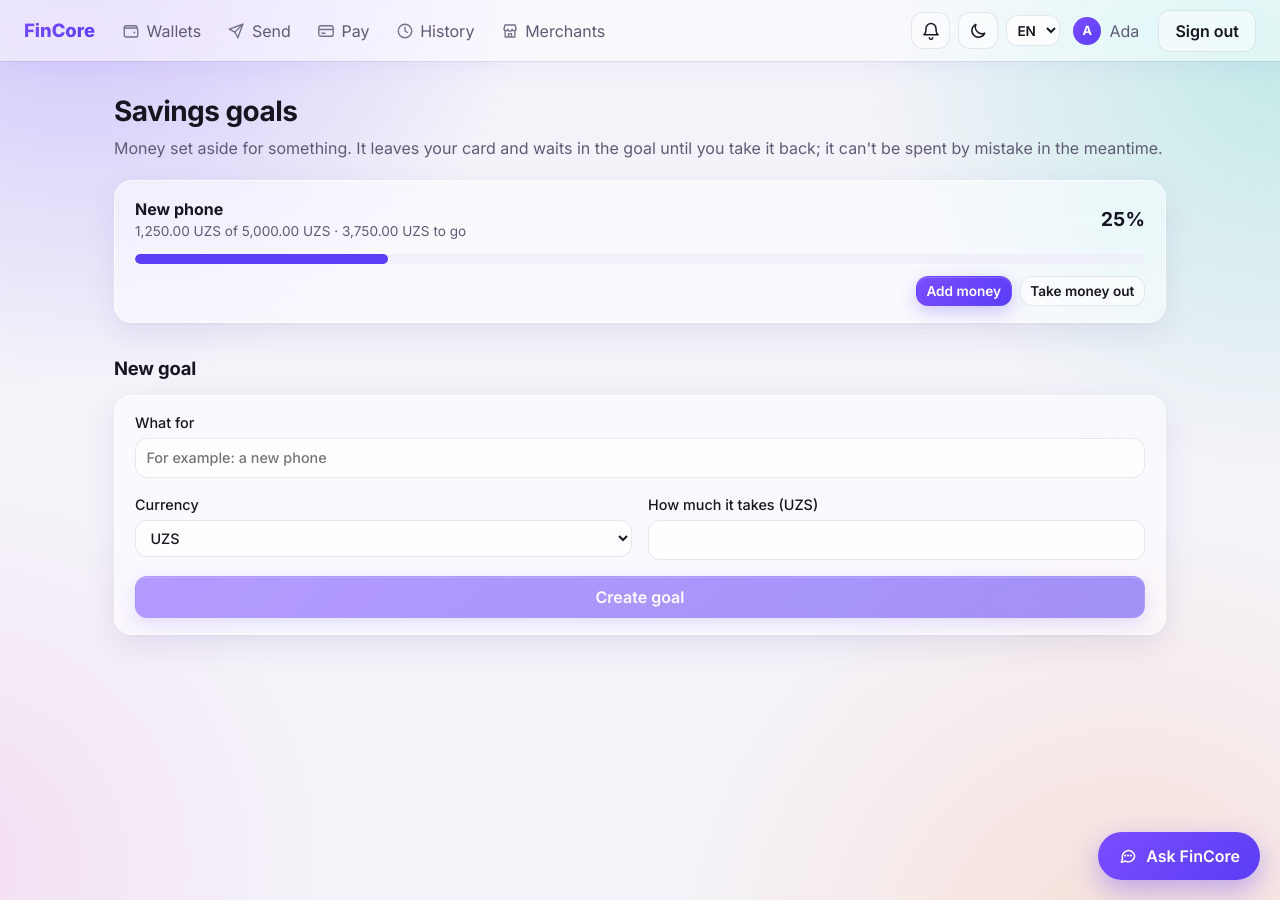
Scenario: savings goals › won't ask for more than the goal holds
Click the button "Take money out": [1082, 291] box [1020,276,1145,306]
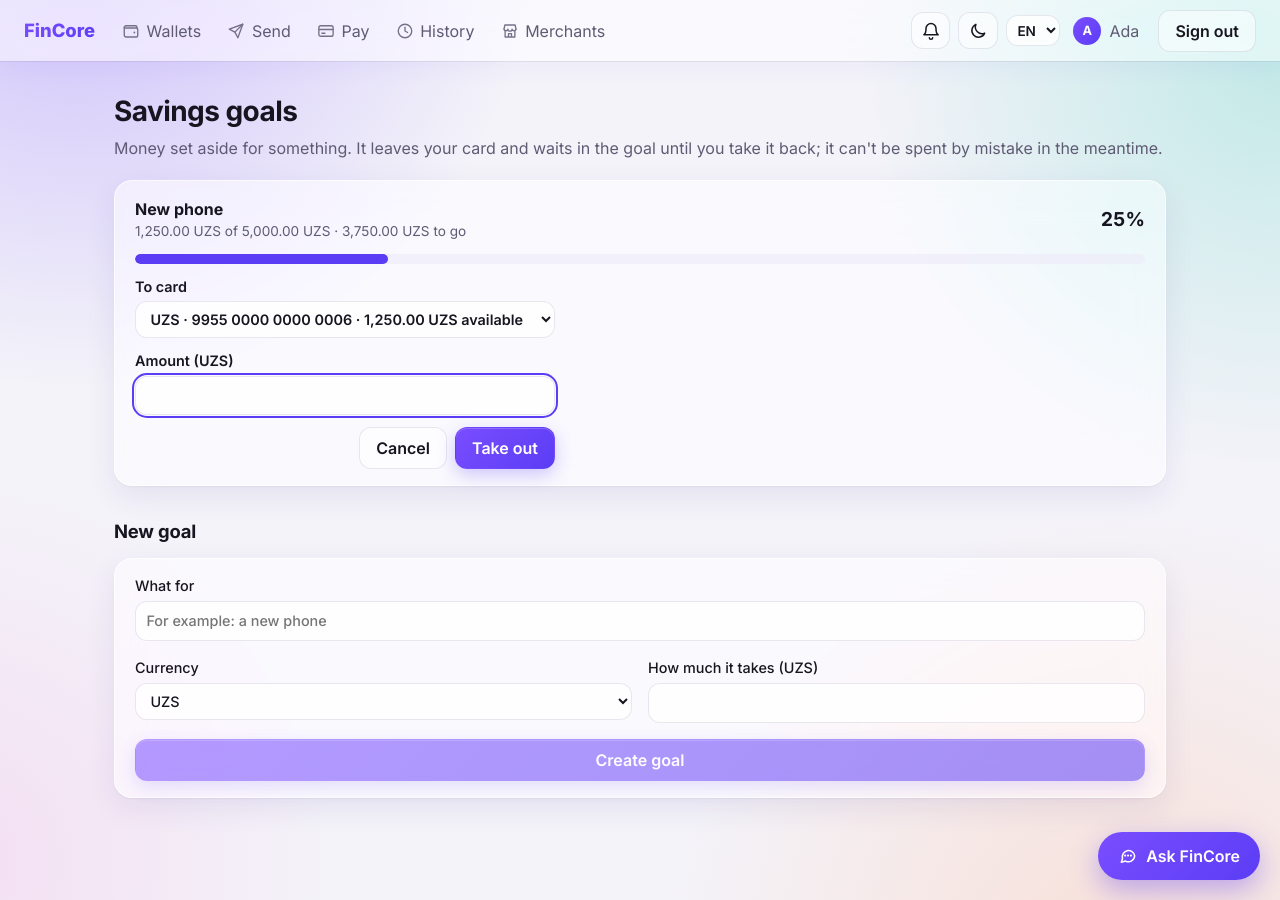
In the field labelled "Amount (UZS)": [345, 396] box [135,376,555,415], type "1250.01"
Click the button "Take out": [505, 448] box [455,427,555,469]
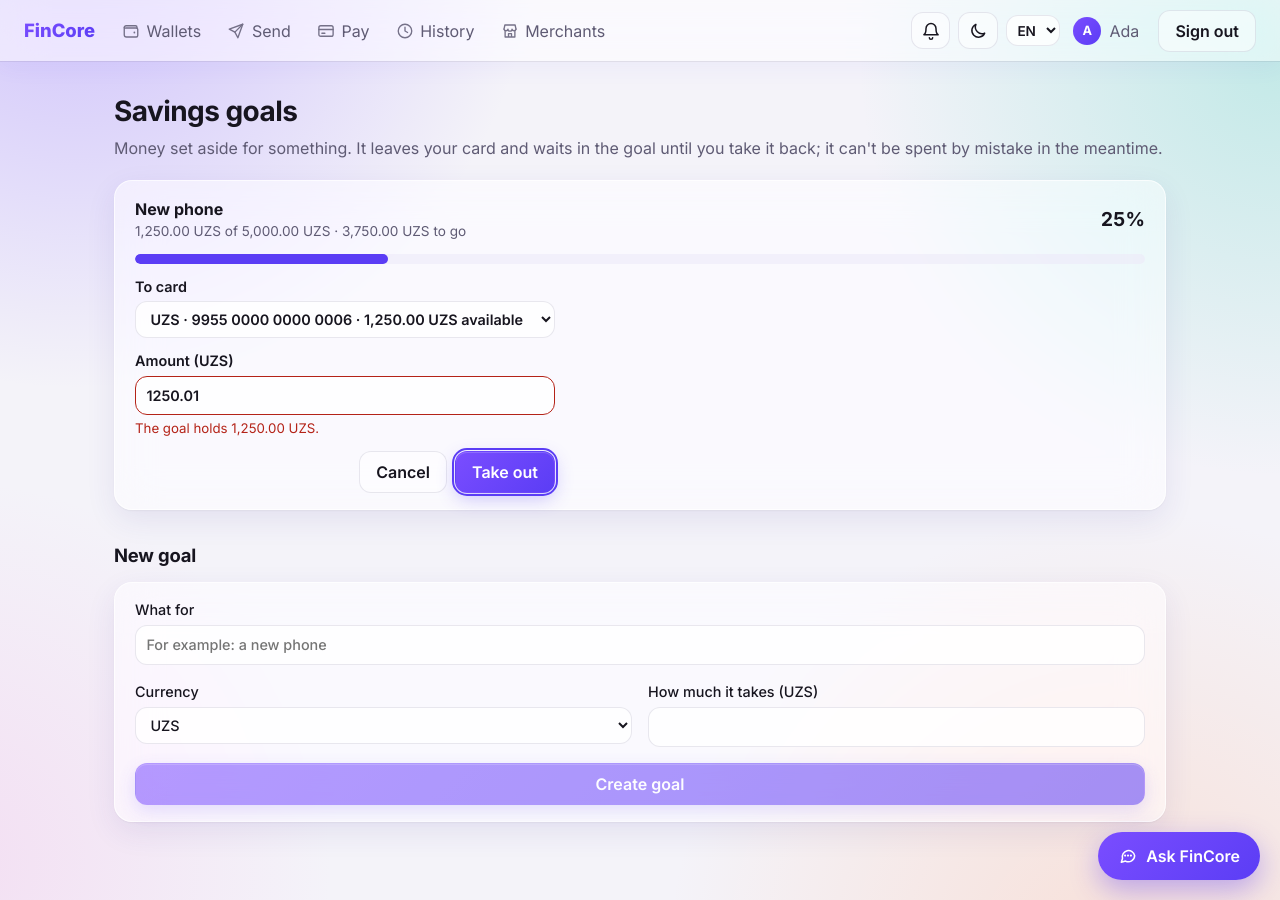
Check: the text "The goal holds 1,250.00 UZS." is shown, box [135,420,319,436]
(The field's label now carries the error too.)
Replace the text in the field labelled "Amount (UZS) The goal holds 1,250.00 UZS." with "1250": [345, 396] box [135,376,555,415]
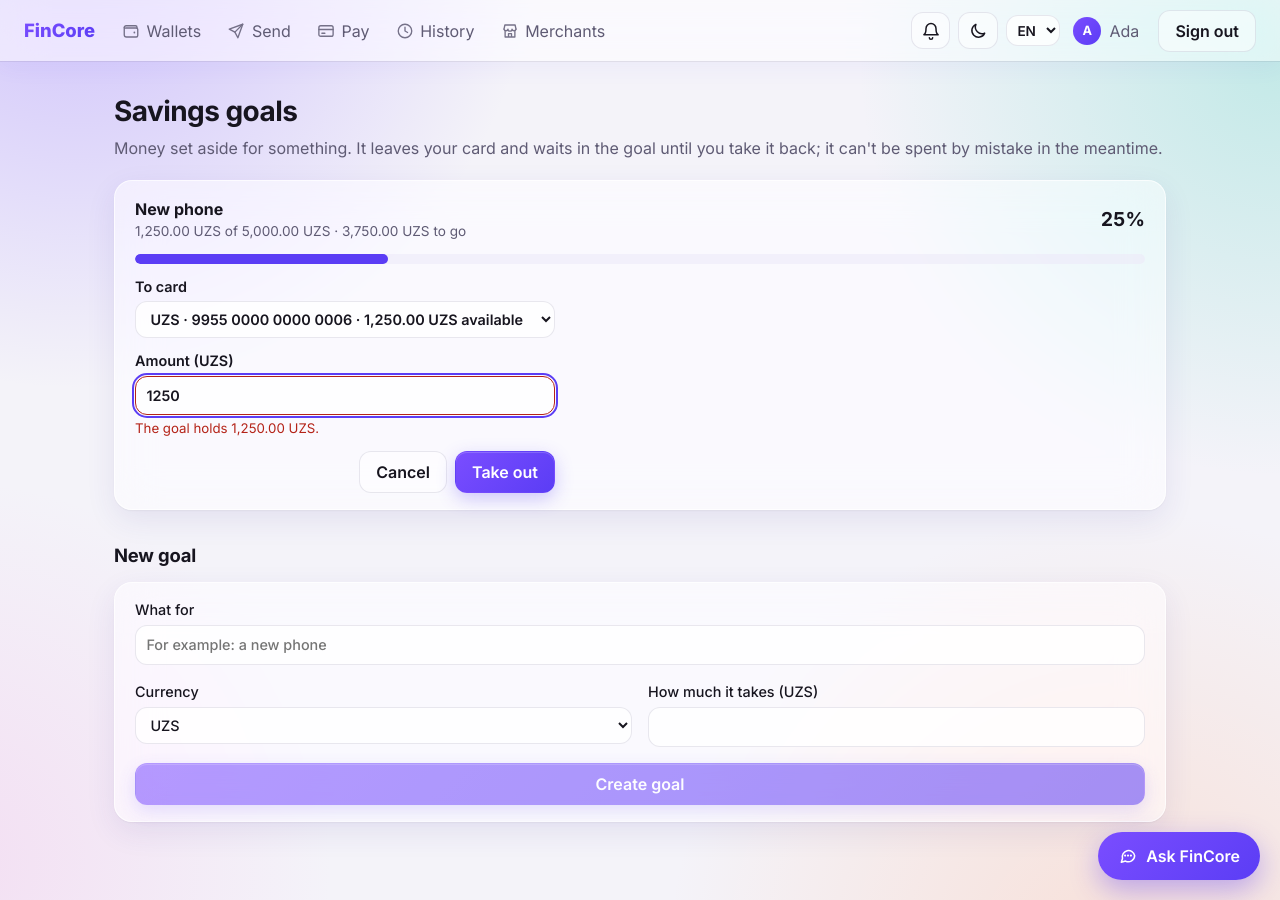
Click the button "Take out": [505, 472] box [455,451,555,493]
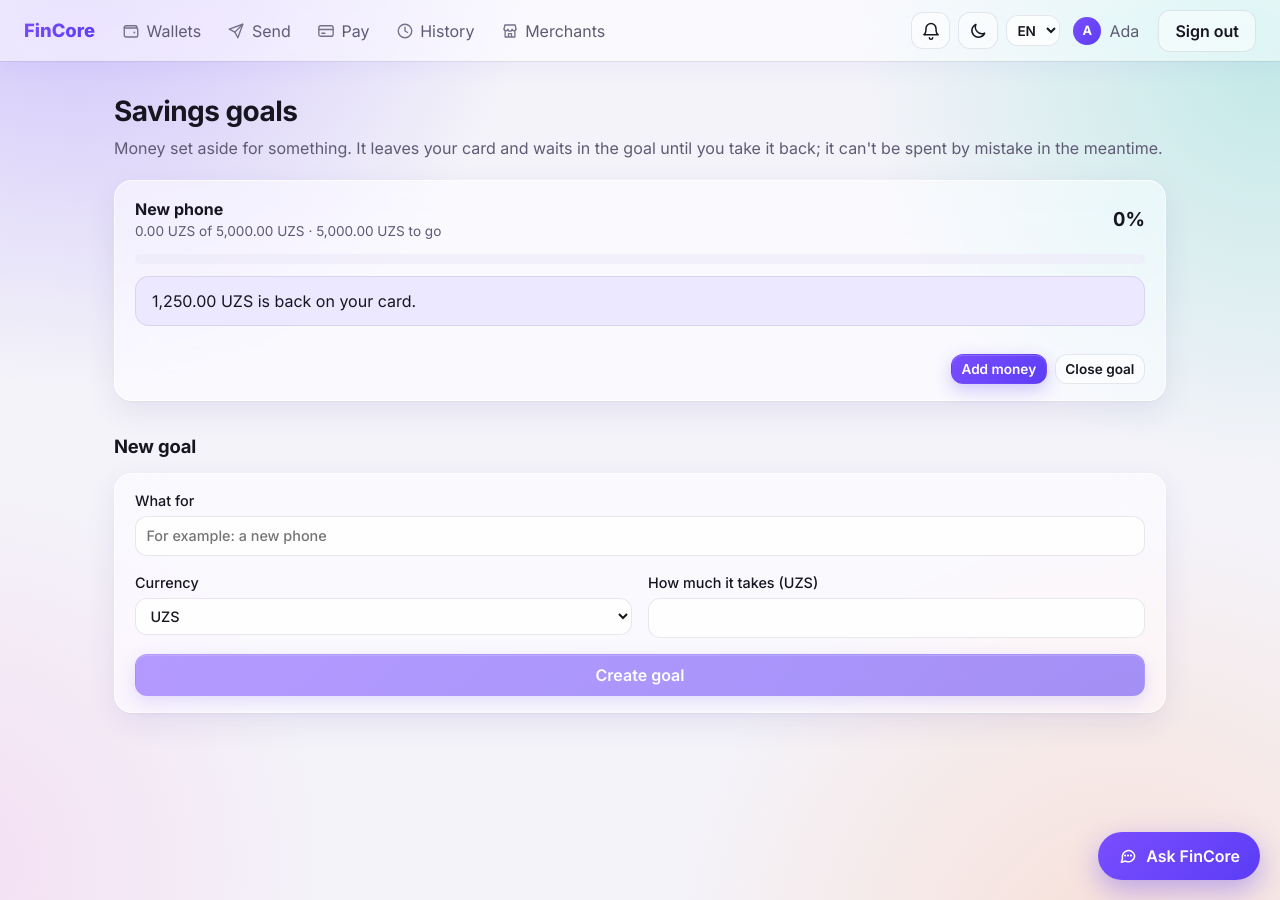
Check: the text "1,250.00 UZS is back on your card." is shown, box [135,276,1145,326]
Empty now: it can be closed, on a second press.
Click the button "Close goal": [1100, 369] box [1055,354,1145,384]
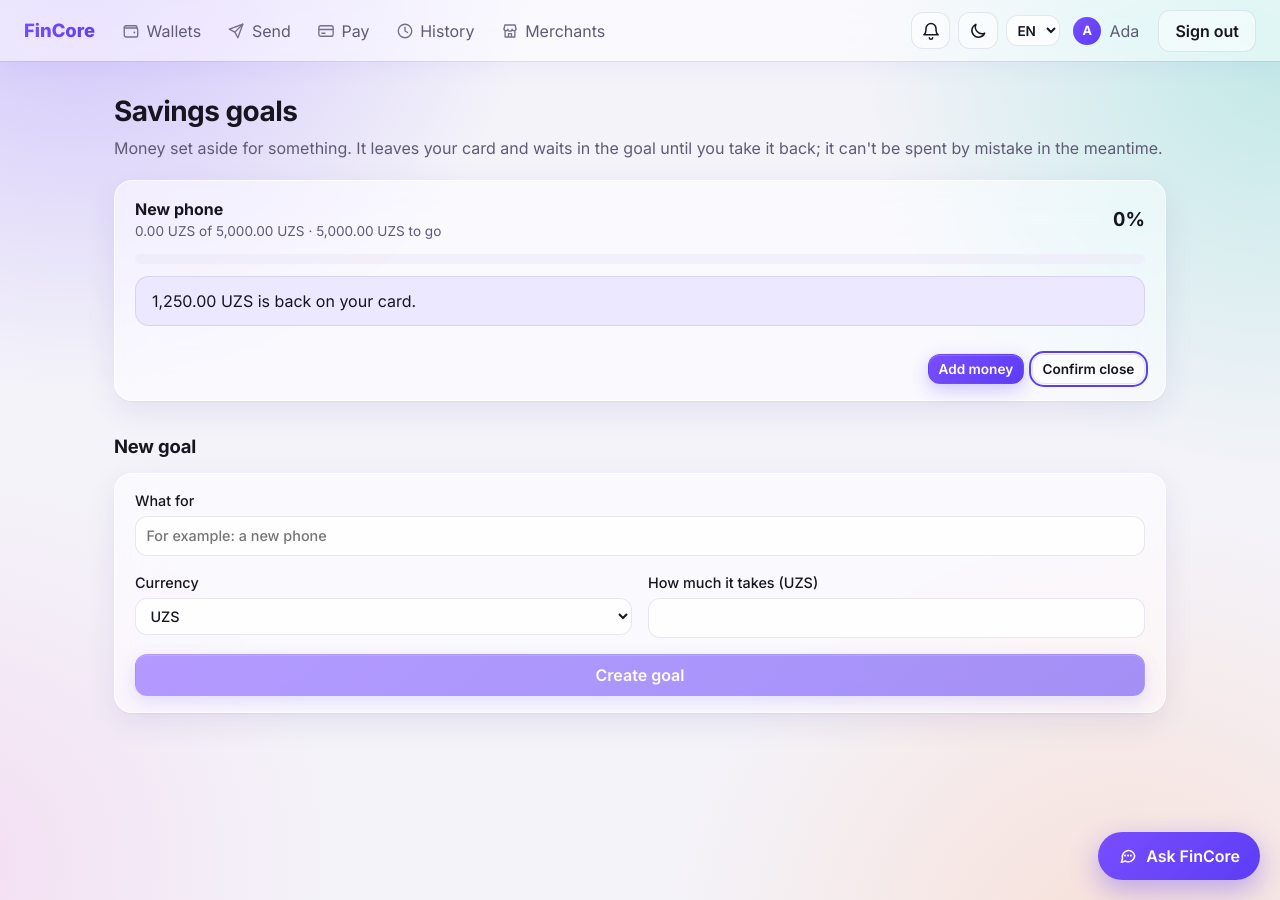
Click the button "Confirm close": [1088, 369] box [1032,354,1145,384]
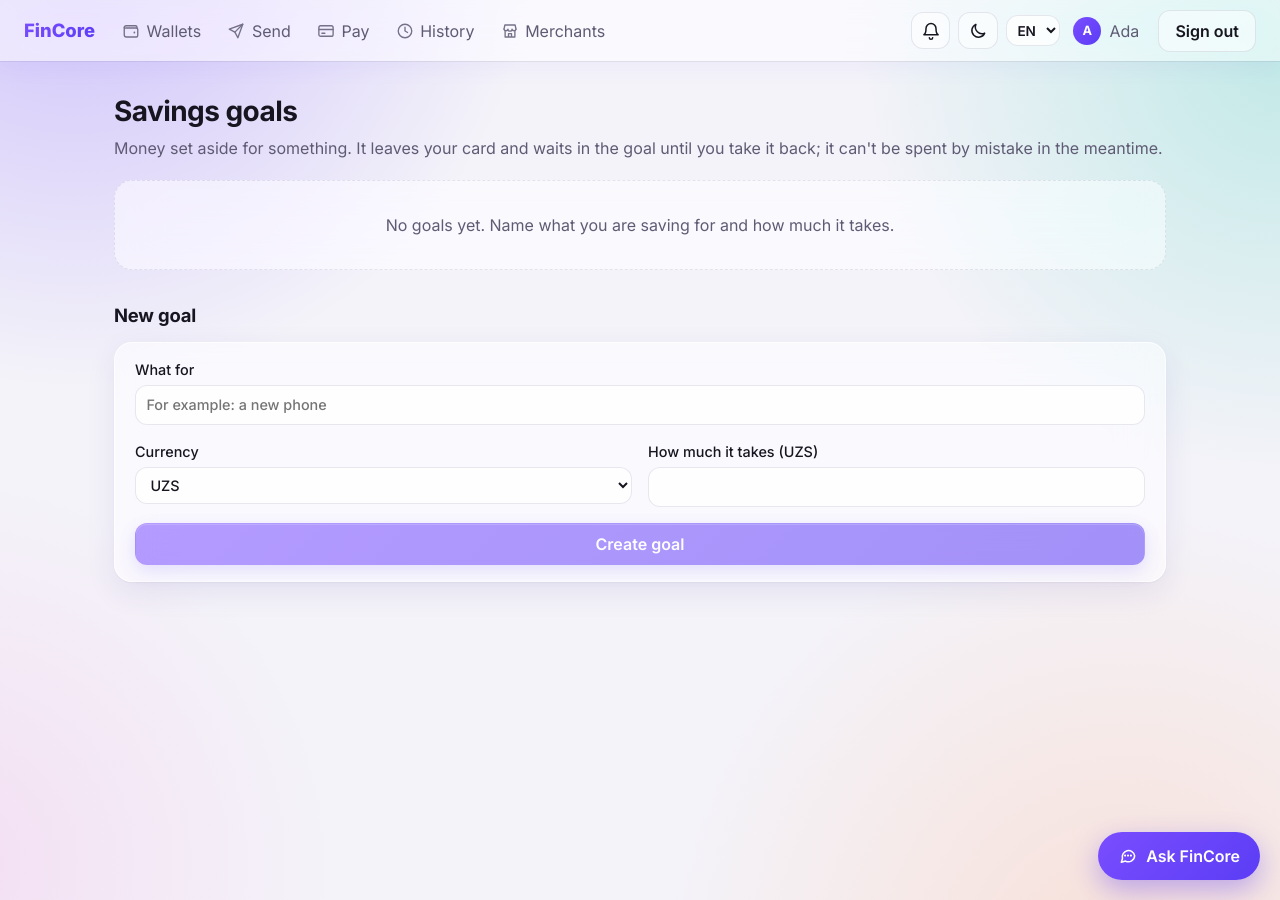
Check: the text "No goals yet" is shown, box [386,215,894,235]
